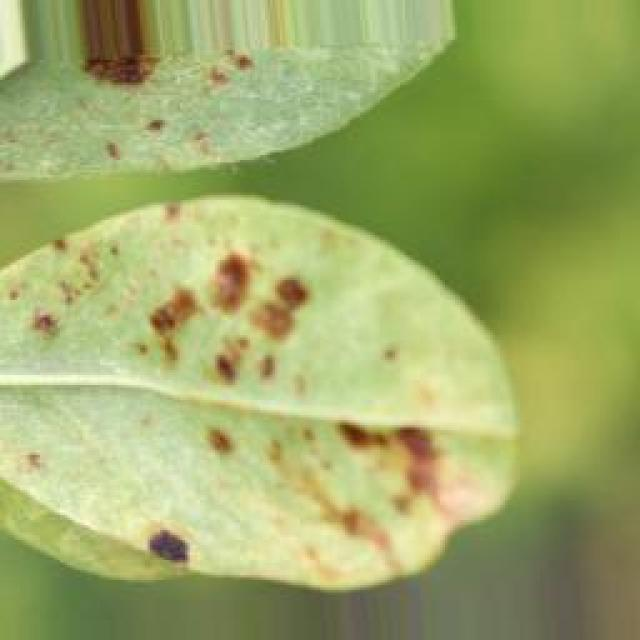Whitefly: (0, 37, 516, 570)
